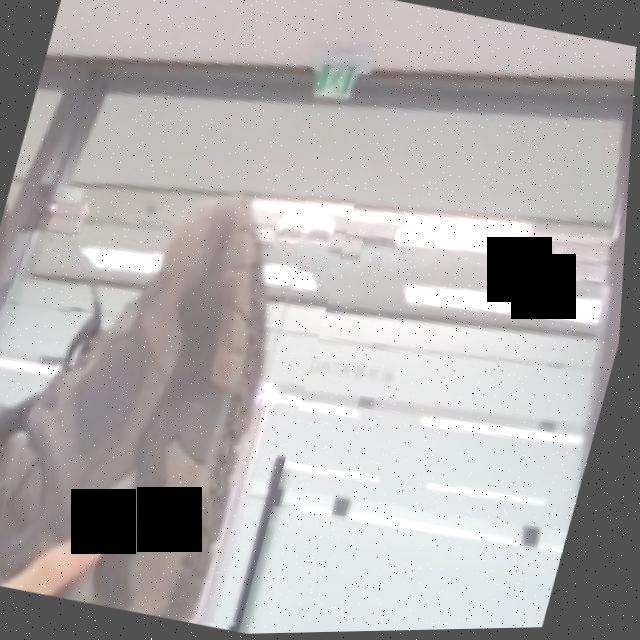shoe: (0, 104, 370, 638)
